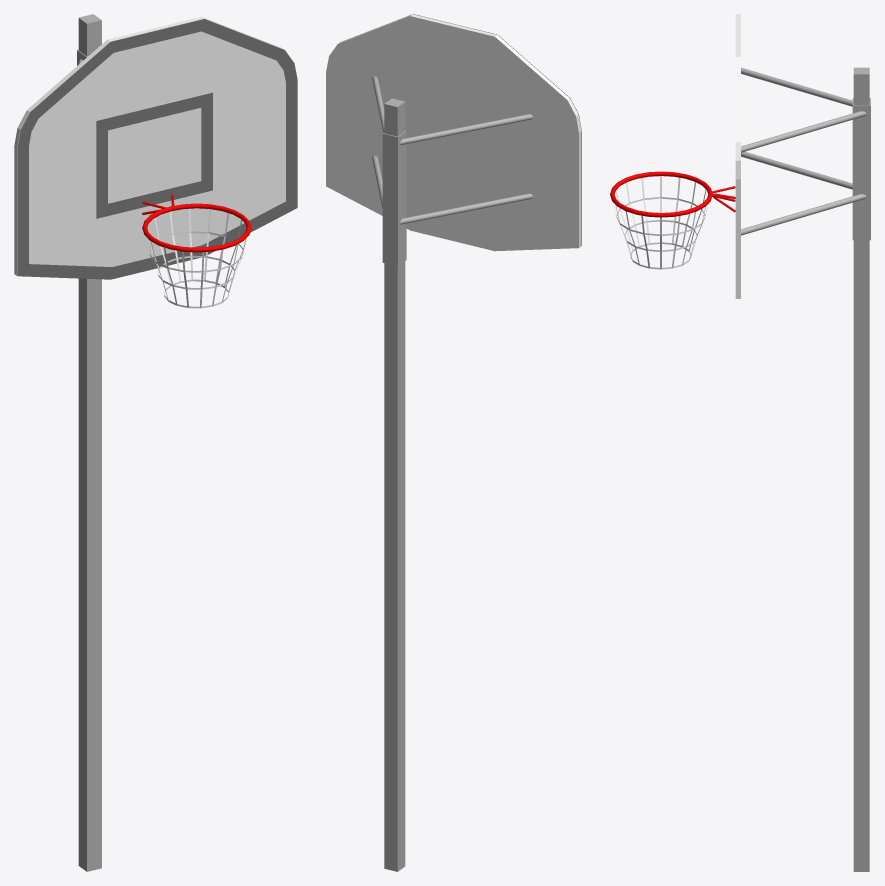
Rendered from hoop.glb.
The picture shows the model from 3 angles, left to right: view 1: azimuth 30°, elevation 25°; view 2: azimuth 150°, elevation 25°; view 3: azimuth 270°, elevation 25°; orthographic projection. The views are drawn at different scales.
Visible parts, largest first — view 1: Mesh11__auto__0, Mesh11__auto_1_0, Mesh2__auto_3_0, Mesh10__auto_3_0, Mesh1__auto_2_0; view 2: Mesh11__auto__0, Mesh2__auto_3_0, Mesh3__auto_3_0, Mesh10__auto_3_0, Mesh7__auto_3_0, Mesh6__auto_3_0; view 3: Mesh2__auto_3_0, Mesh11__auto__0, Mesh3__auto_3_0, Mesh10__auto_3_0, Mesh1__auto_2_0, Mesh8__auto_3_0, Mesh9__auto_3_0, Mesh6__auto_3_0, Mesh7__auto_3_0.
Part boxes in pixels (x1,y1,x2,y2): Mesh11__auto__0: (14, 16, 285, 308); Mesh11__auto_1_0: (17, 19, 297, 279); Mesh2__auto_3_0: (78, 14, 101, 783); Mesh10__auto_3_0: (78, 778, 101, 871); Mesh1__auto_2_0: (142, 203, 251, 252); Mesh11__auto__0: (326, 14, 581, 251); Mesh2__auto_3_0: (384, 98, 405, 792); Mesh3__auto_3_0: (382, 130, 406, 266); Mesh10__auto_3_0: (384, 787, 405, 871); Mesh7__auto_3_0: (400, 193, 532, 224); Mesh6__auto_3_0: (400, 114, 532, 144); Mesh2__auto_3_0: (853, 67, 869, 788); Mesh11__auto__0: (613, 14, 740, 298); Mesh3__auto_3_0: (852, 98, 870, 240); Mesh10__auto_3_0: (853, 789, 869, 871); Mesh1__auto_2_0: (610, 171, 712, 217); Mesh8__auto_3_0: (741, 111, 866, 152); Mesh9__auto_3_0: (741, 194, 866, 235); Mesh6__auto_3_0: (741, 67, 852, 106); Mesh7__auto_3_0: (741, 151, 852, 189).
Bounding box in the file's own units: 0.012 × 0.0362 × 0.0103.
